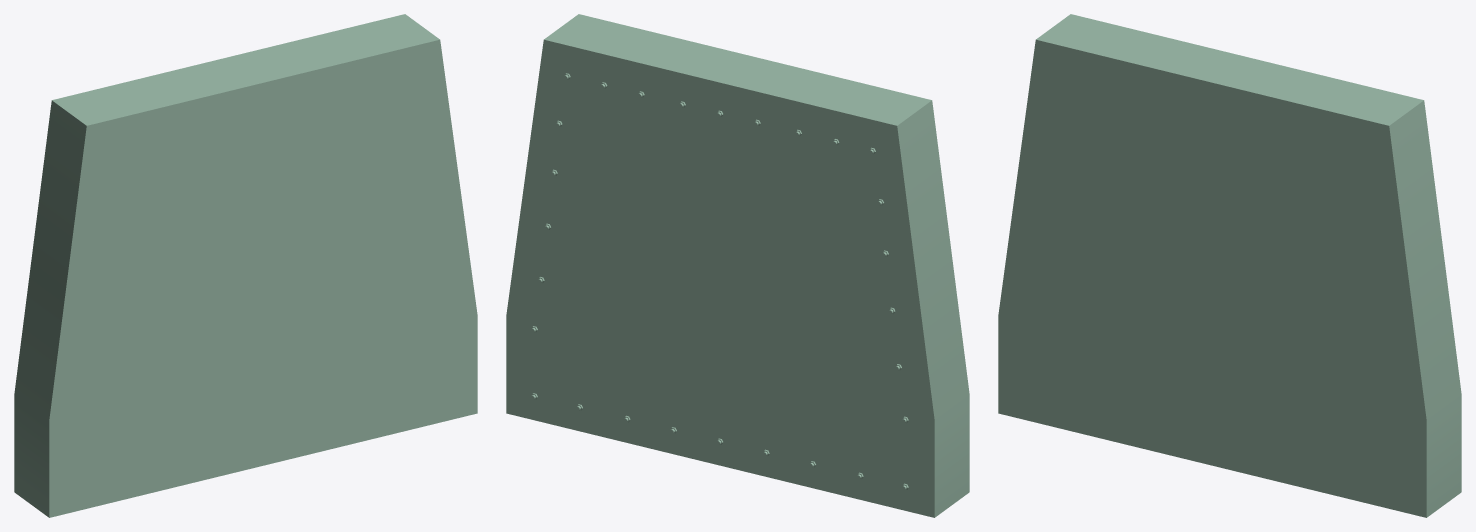
File: engineCover.fbx
3 views of the same model, side by side, from view 1: azimuth 30°, elevation 25°; view 2: azimuth 150°, elevation 25°; view 3: azimuth 330°, elevation 25° (orthographic).
Parts seen in each view (by area): view 1: engineCover; view 2: engineCover; view 3: engineCover.
Boxes of the visible parts, <box> form: engineCover: <box>14,14,477,517</box>; engineCover: <box>506,14,969,517</box>; engineCover: <box>998,14,1461,517</box>.
Bounding box in the file's own units: 360 × 308 × 54.47.
Materials: 1 (1 with a texture image).
